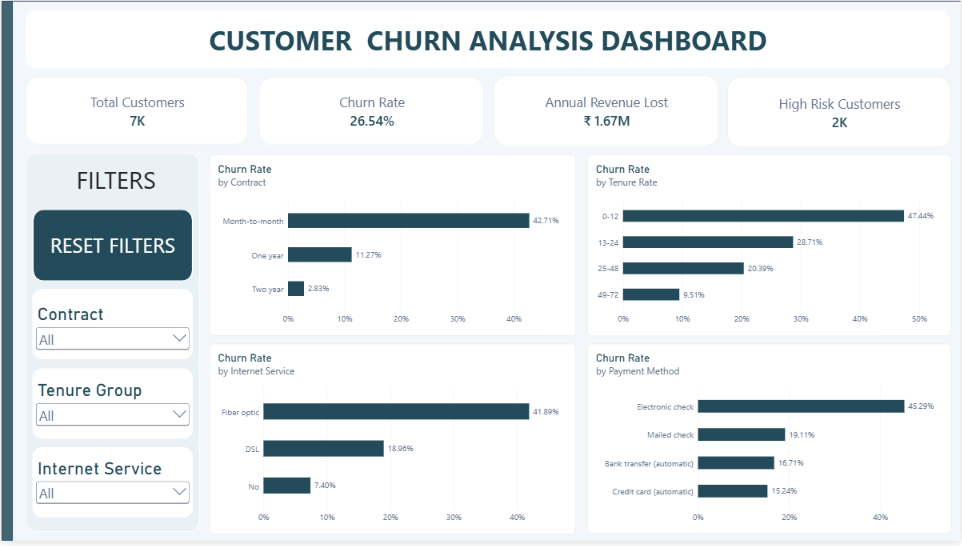

Layout of this report page (visuals, bound fields, positions):
{"tool":"powerbi","page":{"name":"Overview","canvas":[1920,1080],"ordinal":0},"visuals":[{"type":"cardVisual","fields":{"Data":["telco_scored.churn_rate"]},"box":[515,152.9,448.6,135.7],"z":0},{"type":"clusteredBarChart","fields":{"Category":["telco_scored.Contract"],"Y":["telco_scored.churn_rate"]},"box":[415,308.8,732.5,361.2],"z":1000},{"type":"clusteredBarChart","fields":{"Category":["telco_scored.tenure_group"],"Y":["telco_scored.churn_rate"]},"box":[1172,308,726,362],"z":2000},{"type":"clusteredBarChart","fields":{"Category":["telco_scored.InternetService"],"Y":["telco_scored.churn_rate"]},"box":[415.6,685.6,732.2,381.1],"z":3000},{"type":"clusteredBarChart","fields":{"Category":["telco_scored.PaymentMethod"],"Y":["telco_scored.churn_rate"]},"box":[1172.2,686.7,726.7,380],"z":4000},{"type":"slicer","fields":{"Values":["telco_scored.Contract"]},"box":[64,606,316,94],"z":5000},{"type":"slicer","fields":{"Values":["telco_scored.tenure_group"]},"box":[64,758,316,96],"z":6000},{"type":"textbox","box":[47.5,42.5,1850,92.5],"z":7000},{"type":"slicer","fields":{"Values":["telco_scored.InternetService"]},"box":[64,914,316,98],"z":8000},{"type":"actionButton","box":[63.3,418.3,316.7,141.7],"z":9000},{"type":"textbox","box":[64,324,330,68],"z":10000},{"type":"cardVisual","fields":{"Data":["telco_scored.total_customers"]},"box":[47.9,152.9,445,135.7],"z":11000},{"type":"cardVisual","fields":{"Data":["telco_scored.annual_revenue_lost"]},"box":[984,150,450.6,140.6],"z":12000},{"type":"cardVisual","fields":{"Data":["telco_scored.High Risk Customers"]},"box":[1452,152,446,141],"z":13000}]}

Visuals, with their boxes in screenshot pixels (x1, y1, x2, y2), scaled from the page's 1920x1080 canvas onto the 962x546 screenshot:
cardVisual - telco_scored.churn_rate: pyautogui.locateOnScreen(258, 77, 483, 146)
clusteredBarChart - telco_scored.Contract x telco_scored.churn_rate: pyautogui.locateOnScreen(208, 156, 575, 339)
clusteredBarChart - telco_scored.tenure_group x telco_scored.churn_rate: pyautogui.locateOnScreen(587, 156, 951, 339)
clusteredBarChart - telco_scored.InternetService x telco_scored.churn_rate: pyautogui.locateOnScreen(208, 347, 575, 539)
clusteredBarChart - telco_scored.PaymentMethod x telco_scored.churn_rate: pyautogui.locateOnScreen(587, 347, 951, 539)
slicer - telco_scored.Contract: pyautogui.locateOnScreen(32, 306, 190, 354)
slicer - telco_scored.tenure_group: pyautogui.locateOnScreen(32, 383, 190, 432)
textbox: pyautogui.locateOnScreen(24, 21, 951, 68)
slicer - telco_scored.InternetService: pyautogui.locateOnScreen(32, 462, 190, 512)
actionButton: pyautogui.locateOnScreen(32, 211, 190, 283)
textbox: pyautogui.locateOnScreen(32, 164, 197, 198)
cardVisual - telco_scored.total_customers: pyautogui.locateOnScreen(24, 77, 247, 146)
cardVisual - telco_scored.annual_revenue_lost: pyautogui.locateOnScreen(493, 76, 719, 147)
cardVisual - telco_scored.High Risk Customers: pyautogui.locateOnScreen(728, 77, 951, 148)
